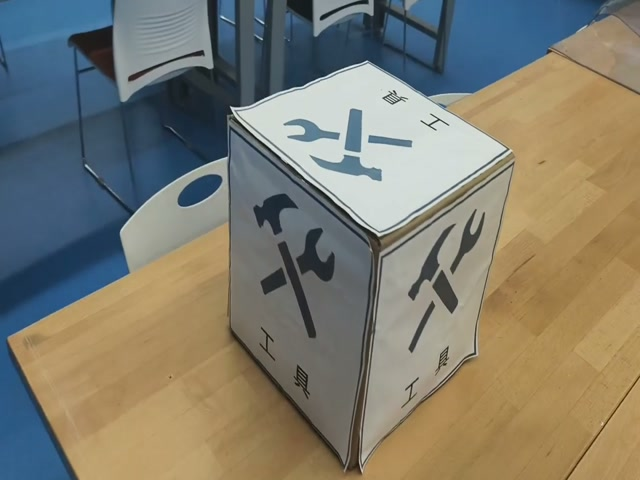Cube_tool: (229, 62, 513, 238)
